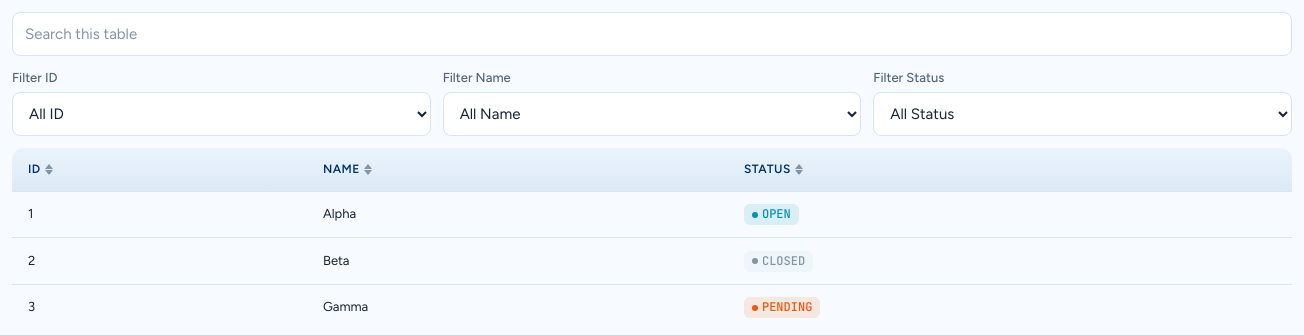
Test: DataTable › free-text search filters rows across columns when searchable
The width and height of the screenshot is (1304, 335).
Type "Beta" into the search field named "Search table" at coordinates (652, 34), box 12,12 -> 1292,56
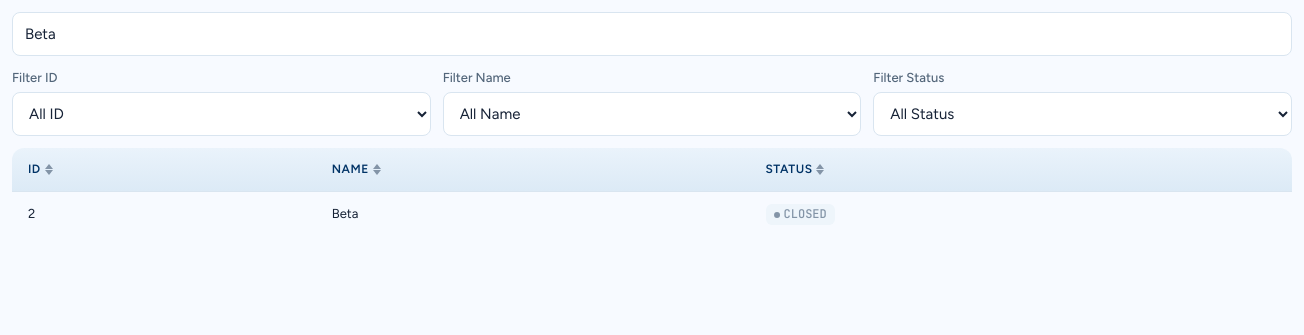
Check: the text "Beta" is shown, box 316,191 -> 750,237
Check: the text "Alpha" is gone
Check: the text "Gamma" is gone
